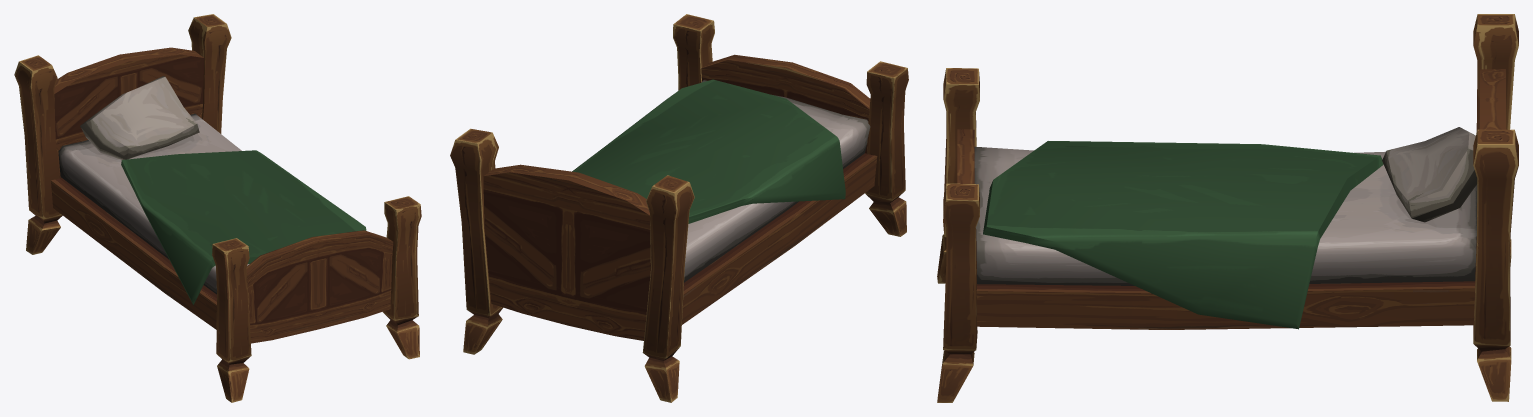
File: SM_PROP_bed_interior_01.fbx
3 views of the same model, side by side, from view 1: azimuth 30°, elevation 25°; view 2: azimuth 150°, elevation 25°; view 3: azimuth 270°, elevation 25° (orthographic). The views are drawn at different scales.
Parts seen in each view (by area): view 1: SM_PROP_bed_interior_01; view 2: SM_PROP_bed_interior_01; view 3: SM_PROP_bed_interior_01.
Part boxes in pixels (x1,y1,x2,y2): SM_PROP_bed_interior_01: (14,14,421,402); SM_PROP_bed_interior_01: (450,14,908,402); SM_PROP_bed_interior_01: (937,14,1518,402).
Bounding box in the file's own units: 131 × 118 × 238.
